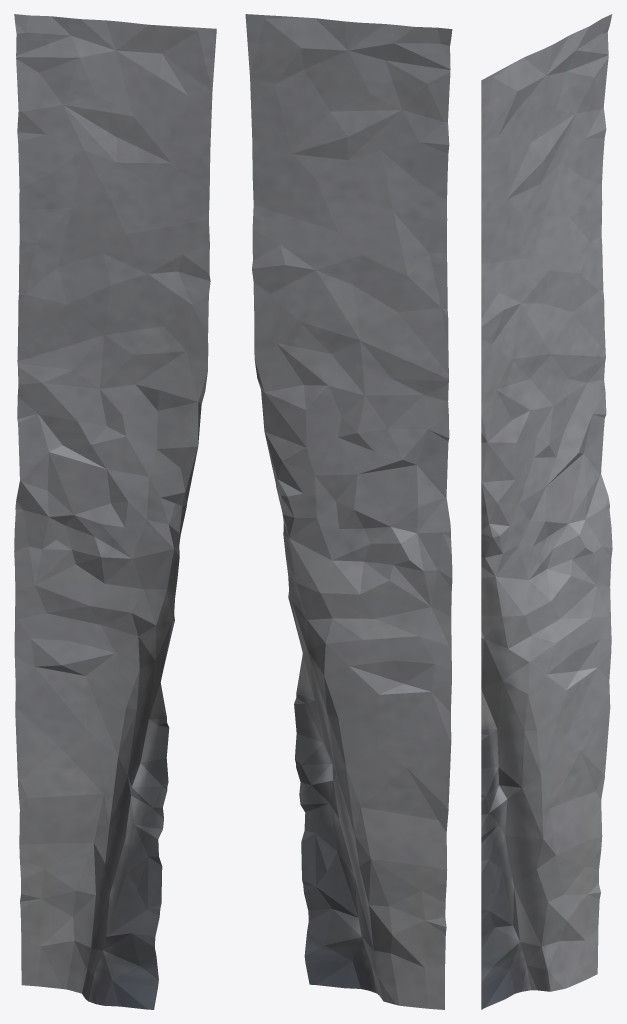
3 renders of one model, left to right at view 1: azimuth 30°, elevation 25°; view 2: azimuth 210°, elevation 25°; view 3: azimuth 270°, elevation 25°, orthographic. The views are drawn at different scales.
Size of the model in its own units: 0.1241 by 0.8374 by 0.1037.
1 material, 1 textured.
